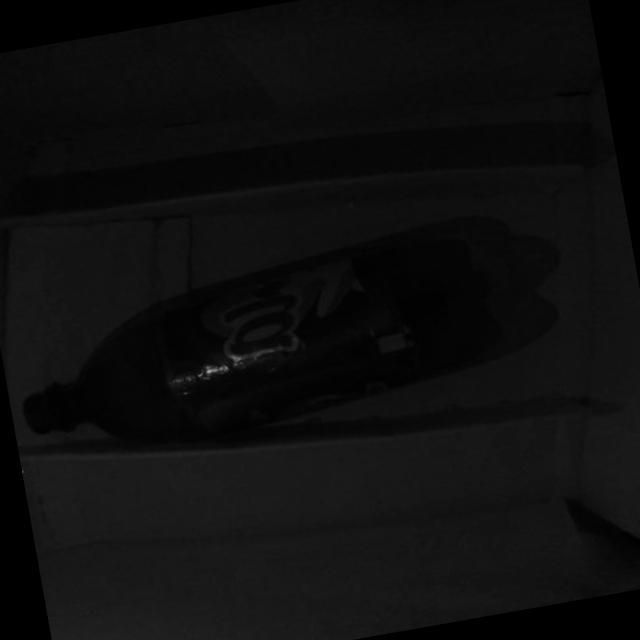good: (1, 202, 580, 488)
